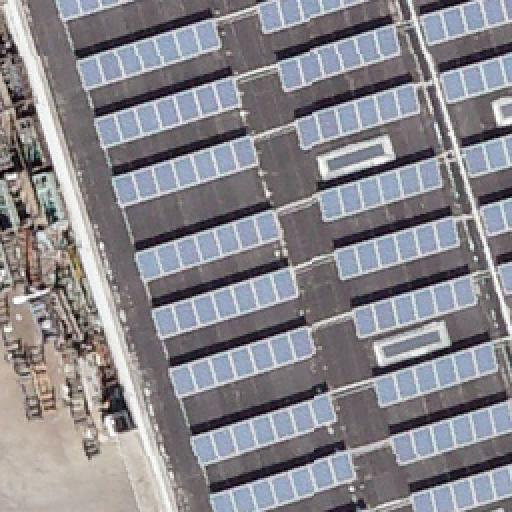solar-panel: (167, 324, 321, 400), (151, 264, 305, 340), (133, 209, 283, 287), (73, 17, 223, 95), (110, 134, 262, 210), (92, 74, 244, 150), (189, 390, 339, 466), (292, 80, 424, 152), (208, 449, 360, 511), (313, 157, 447, 227), (276, 24, 404, 92), (388, 397, 512, 467), (371, 343, 501, 409), (331, 215, 461, 281), (348, 274, 480, 338), (408, 462, 512, 510), (416, 0, 512, 48), (253, 0, 371, 36), (440, 51, 512, 109), (460, 132, 512, 180), (57, 0, 135, 24), (480, 195, 512, 237), (496, 261, 512, 299), (359, 506, 369, 510)
